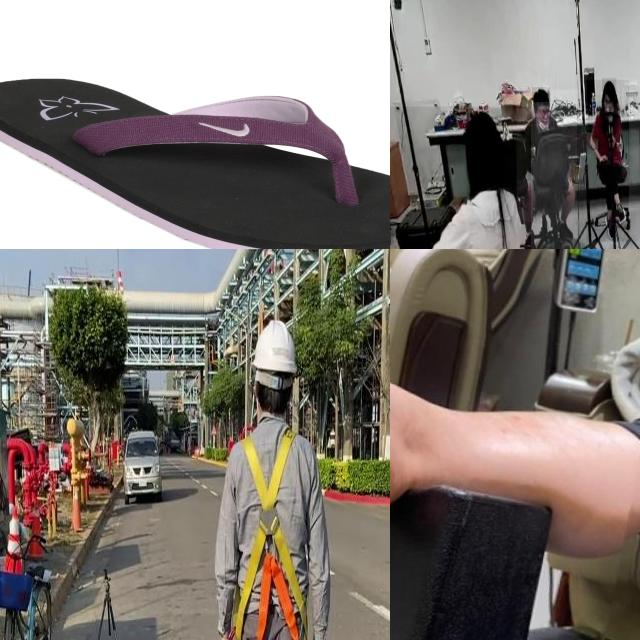Harness: (234, 429, 307, 640)
Sandals: (0, 74, 390, 249)
hand_noglove: (598, 152, 608, 162)
head_nohelmet: (463, 108, 503, 146), (532, 87, 550, 103), (602, 78, 617, 93)
person: (390, 106, 531, 249), (516, 89, 577, 249), (586, 80, 630, 242)
shoes: (556, 216, 574, 246), (604, 214, 618, 243), (613, 199, 628, 226)
